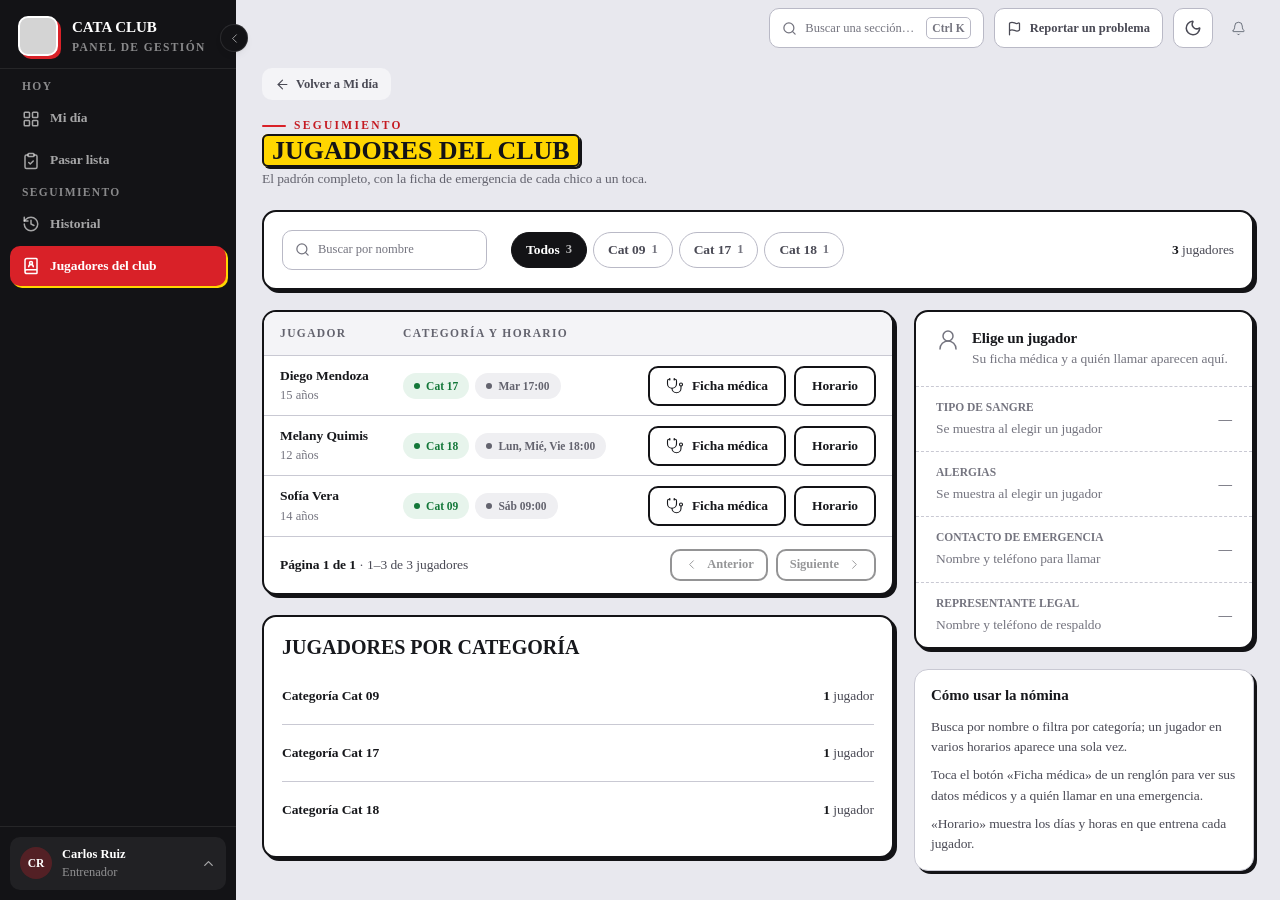
Test: el buscador filtra la nómina que ya está en memoria › dice que no encontró a nadie en vez de mostrar una lista vacía y muda
Check: the row with test id "student-row-7" is shown, box [264,416,892,476]
Type "zzz" into the search field labelled "Buscar por nombre" at (396, 250), box [318,240,474,259]
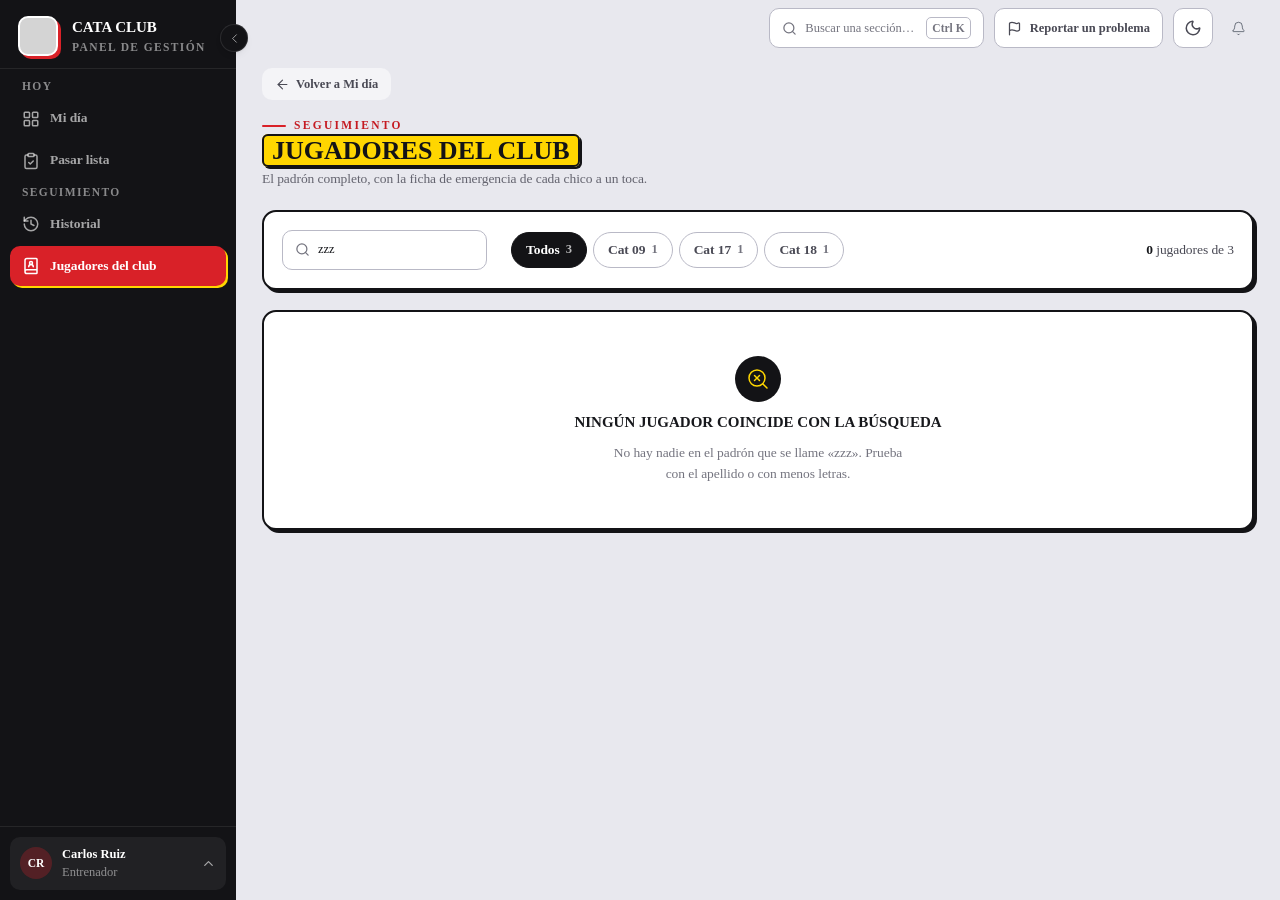
Check: the text "Ningún jugador coincide con la búsqueda" is shown, box [574,412,942,433]
